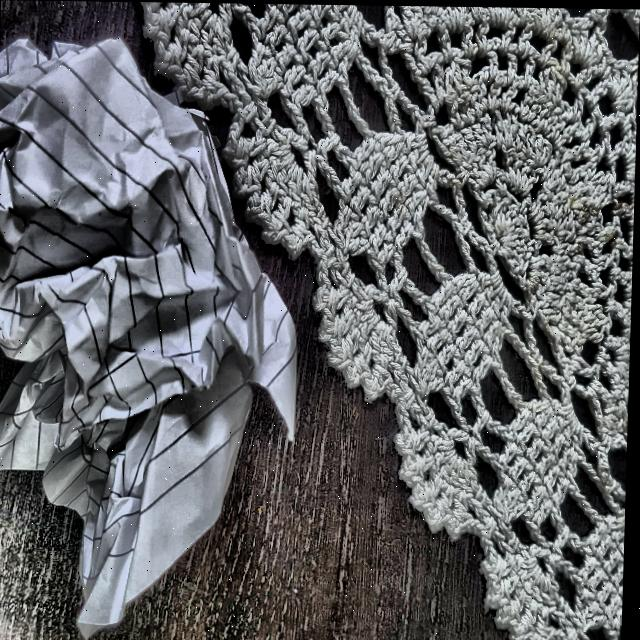paper: (0, 40, 301, 640)
